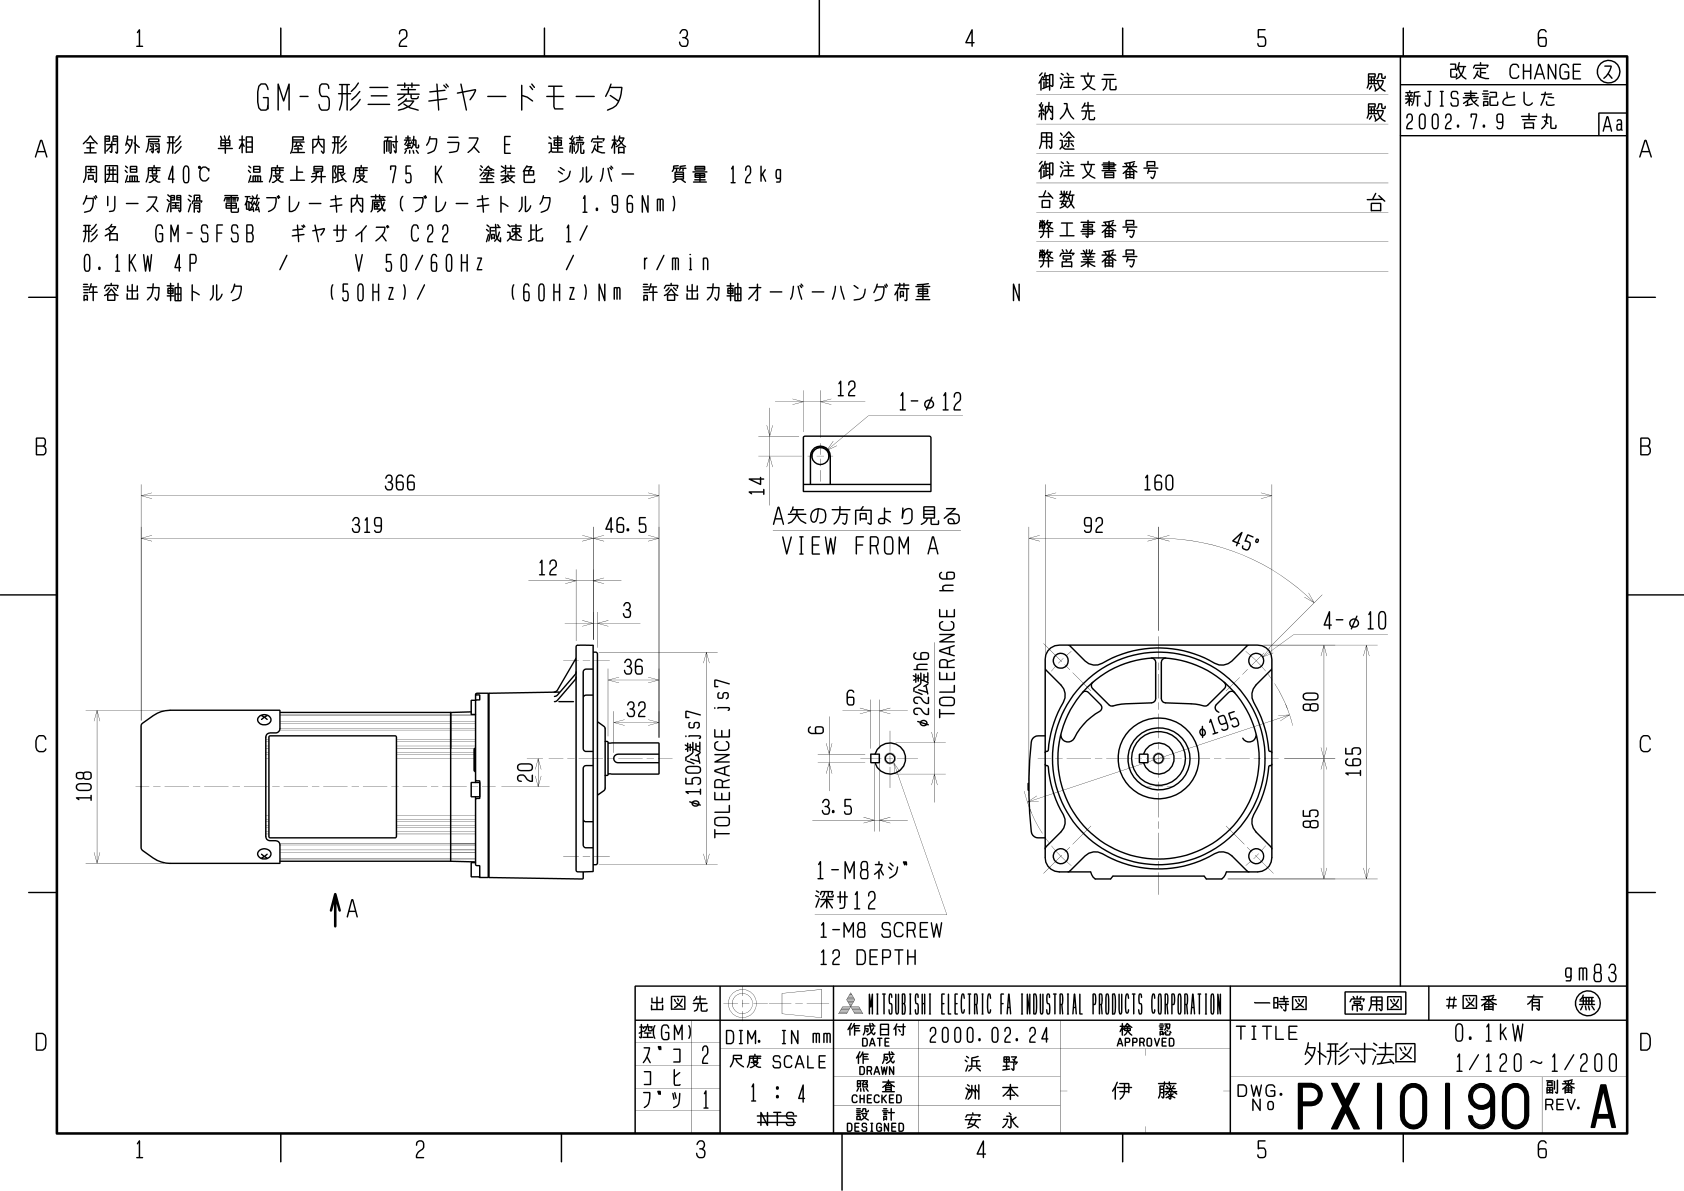GM_S_屋内＿単相_フランジ: (73, 345, 1395, 967)
